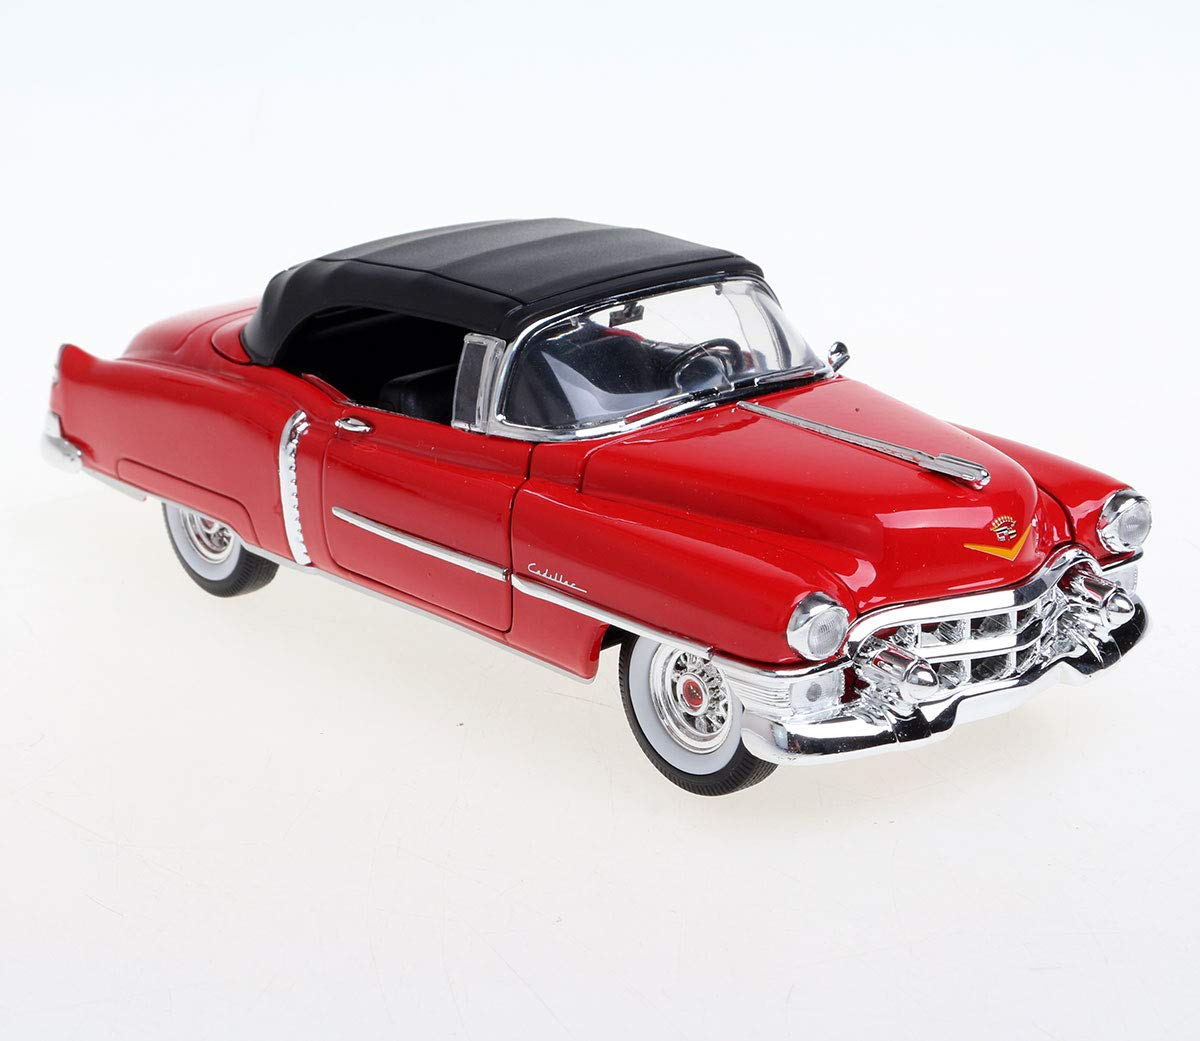ARABA: (40, 209, 1152, 801)
